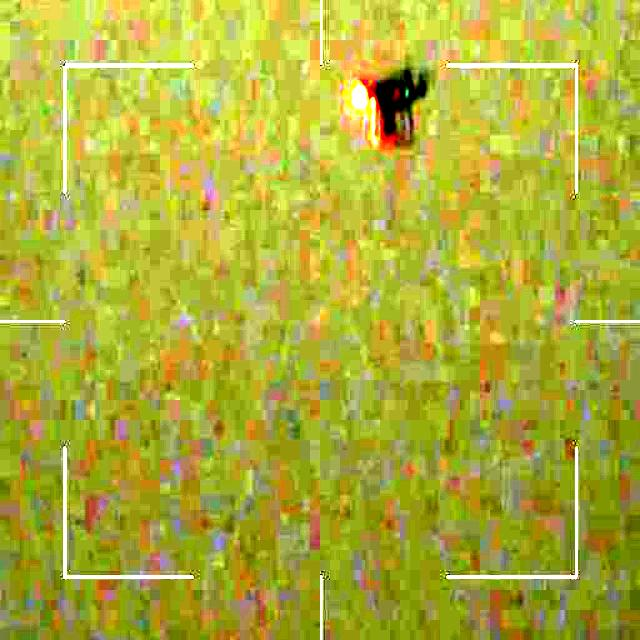bird: (342, 59, 441, 149)
